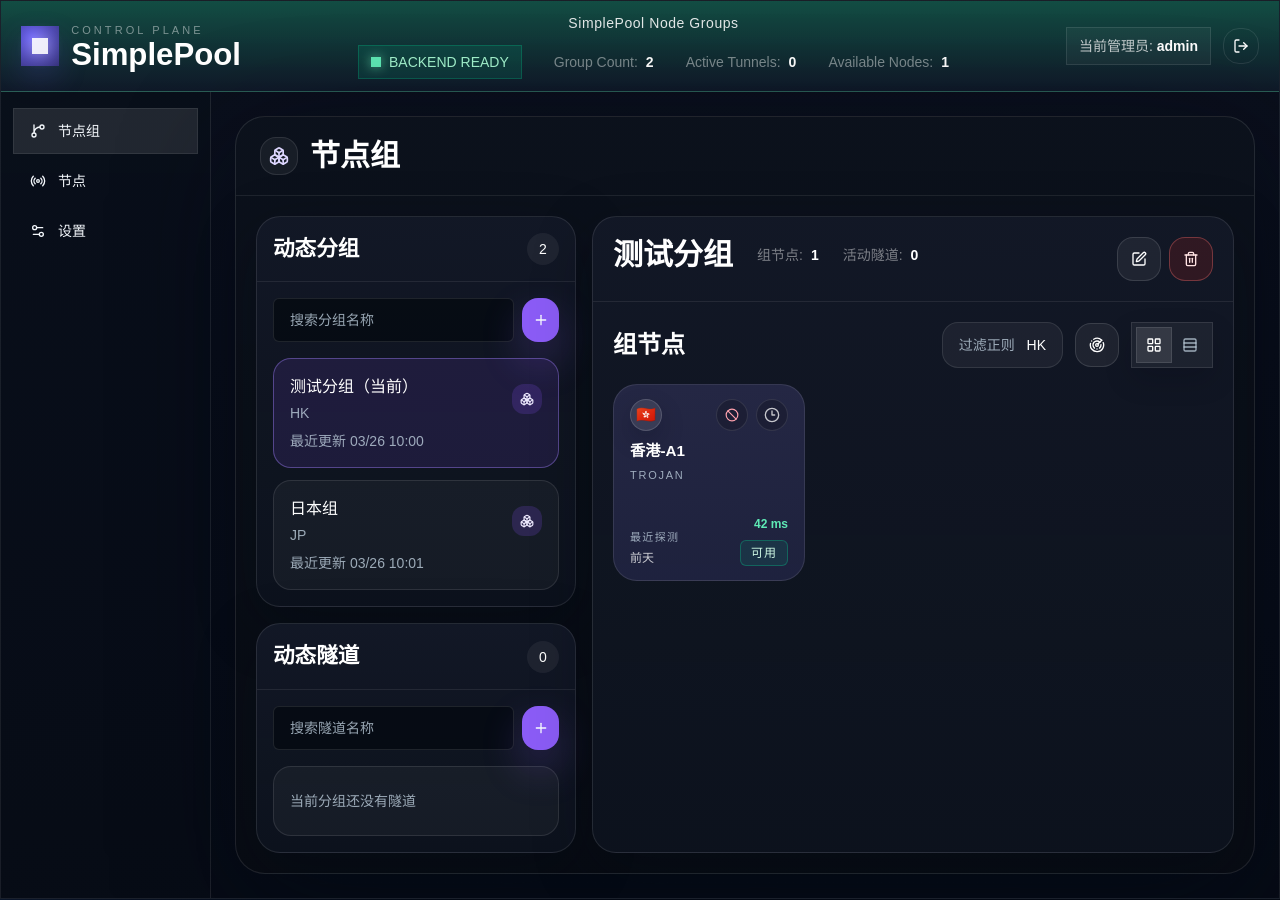
Scenario: App › 切换分组时关闭旧的组节点推送流
This screenshot has width=1280, height=900.
expect the heading "节点组" is shown: met, box [310,138,400,174]
Click the button "日本组 JP 最近更新 03/26 10:01" at (314, 509), box [273,480,559,590]
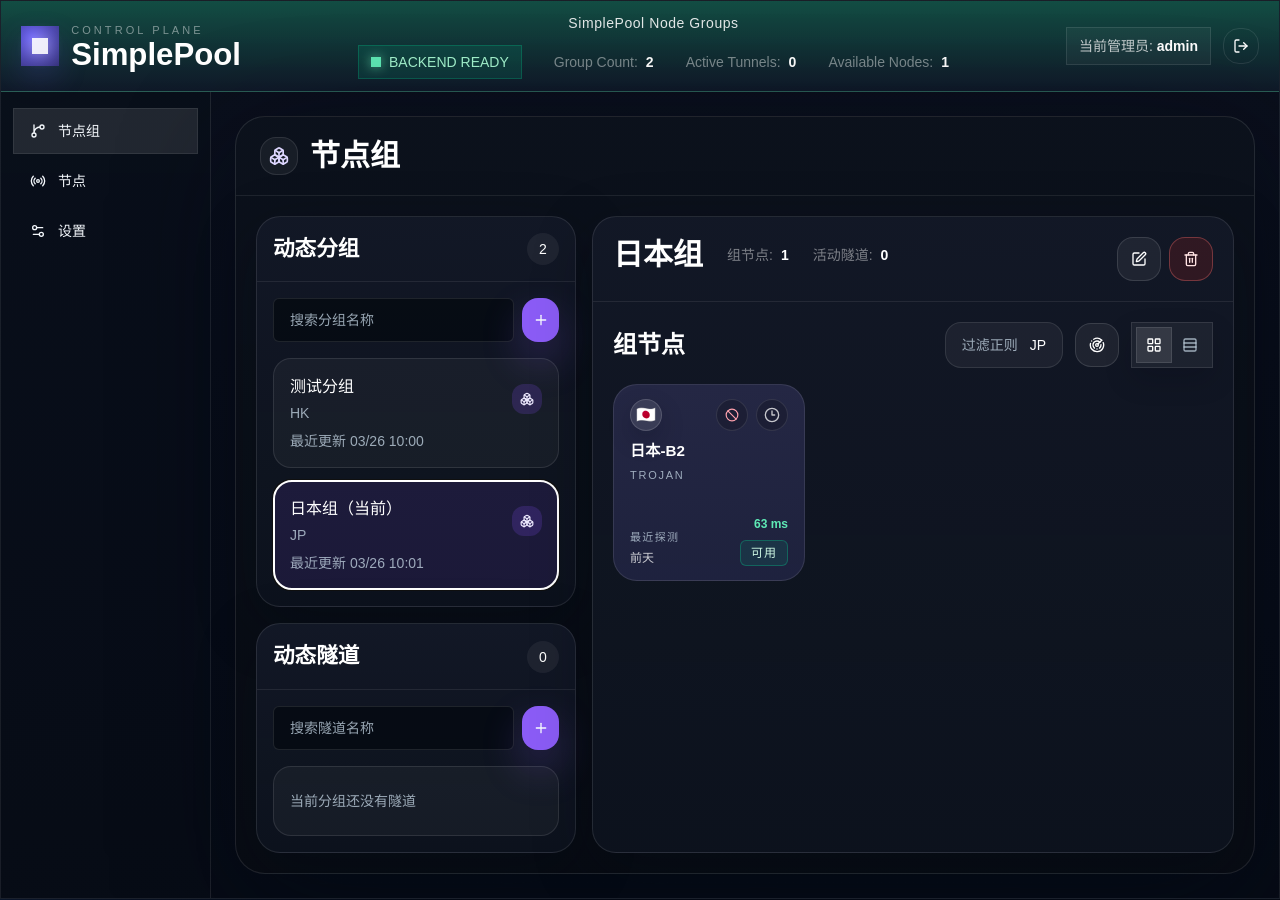
expect the text "63 ms" is shown: met, box [754,516,788,532]
